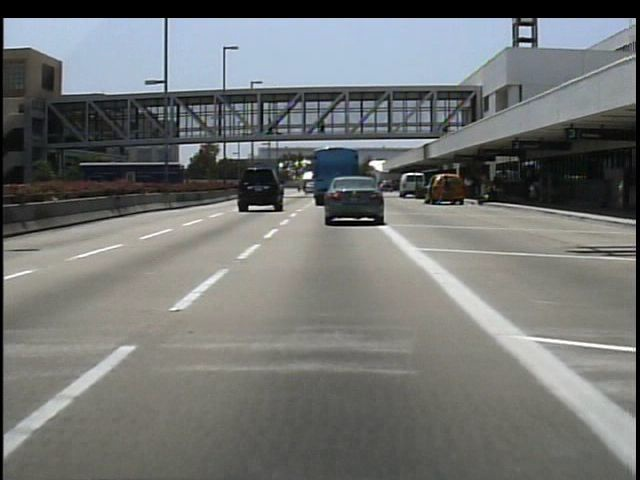person: (439, 176, 456, 212), (316, 115, 329, 141), (264, 114, 278, 137)
